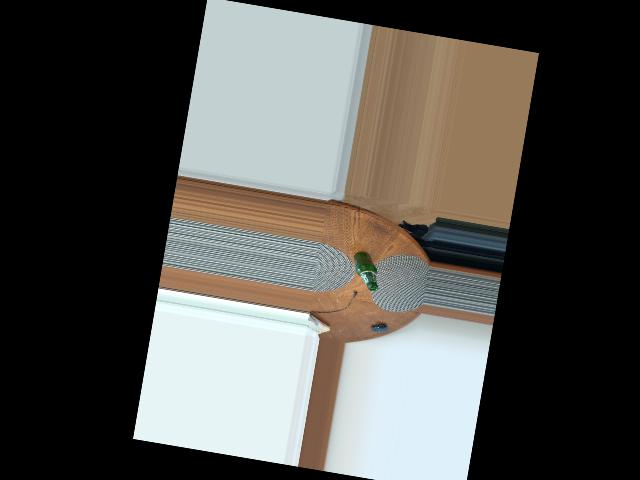beer: (347, 249, 383, 291)
